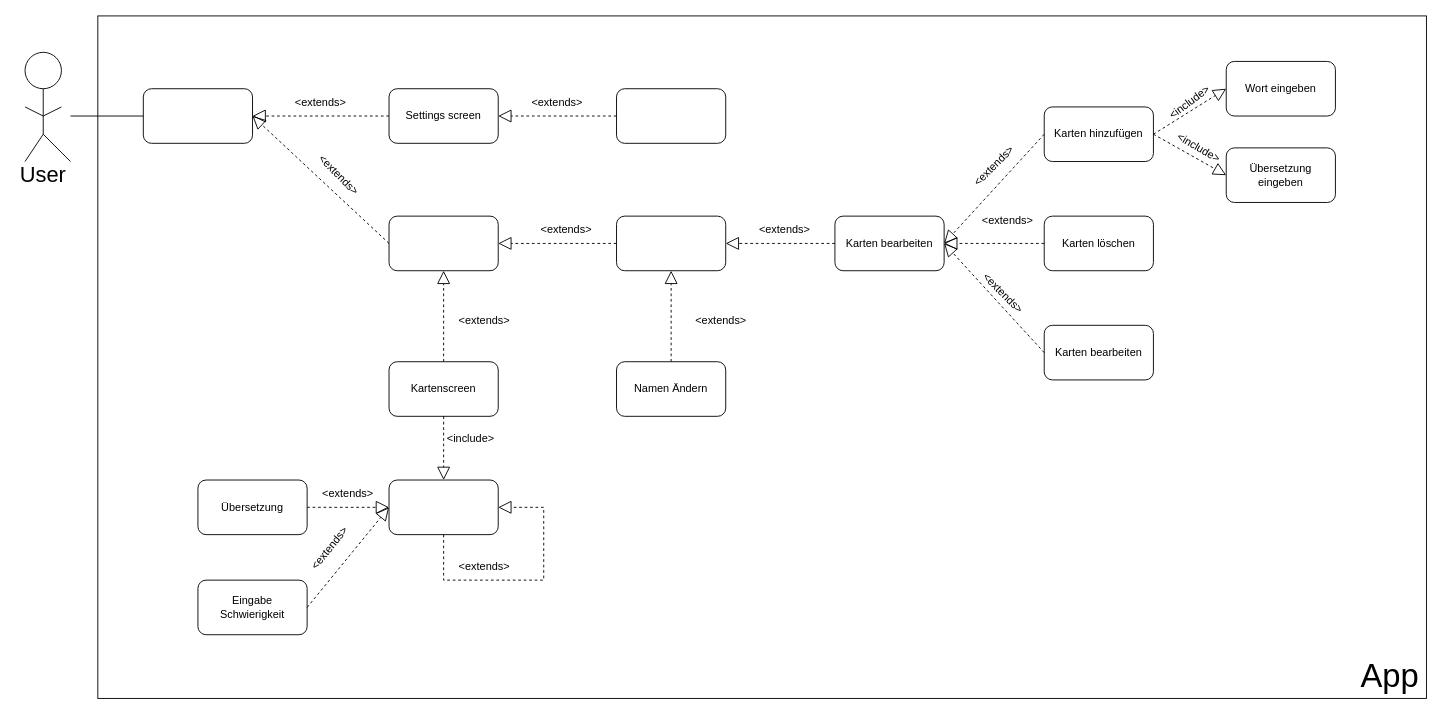
Some shapes in this 1442 by 714 pixel diagram are drawn without their labels. The shapes that lost their labels are listed below. From the top down, each one's box as (x1, y1, x2, y2) in pixels, then its label:
(142, 88, 253, 143): Main Screen
(616, 88, 726, 143): Deck importieren
(388, 215, 498, 271): Deck Manager
(616, 215, 726, 271): Deck bearbeiten
(388, 479, 498, 535): Wort
